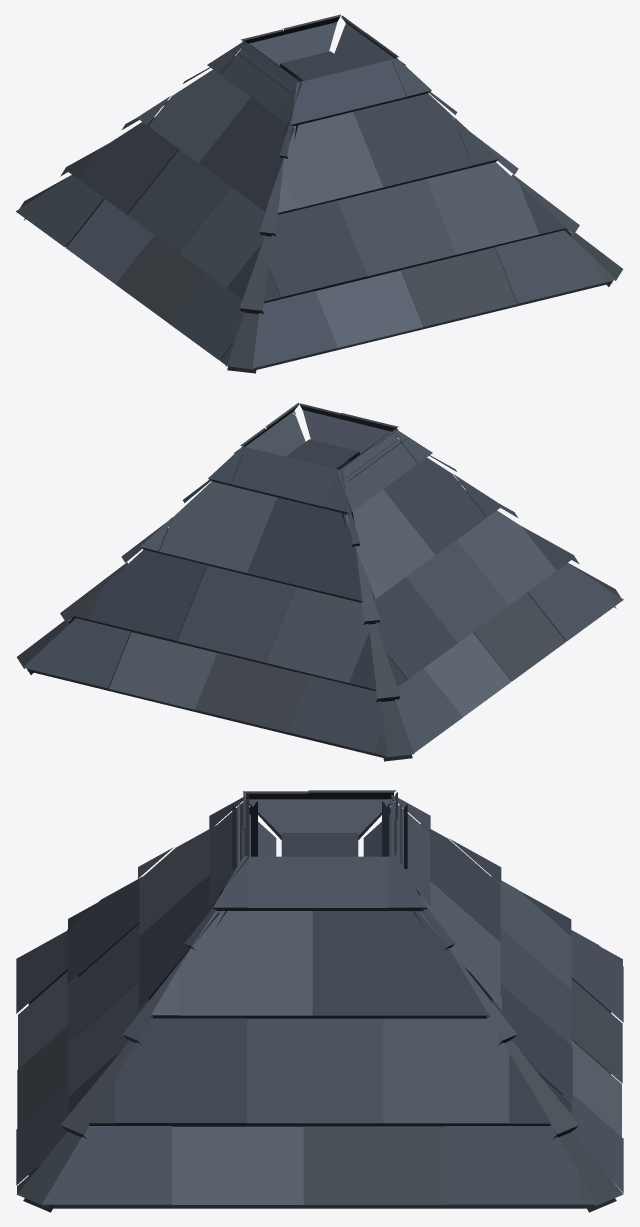
File: roof-point-slate.glb
3 views of the same model, one above another, from view 1: azimuth 30°, elevation 25°; view 2: azimuth 150°, elevation 25°; view 3: azimuth 270°, elevation 25° (orthographic). The views are drawn at different scales.
Parts seen in each view (by area): view 1: roof-point-slate; view 2: roof-point-slate; view 3: roof-point-slate.
Boxes of the visible parts, x1,y1,x2,y2 form: roof-point-slate: (16, 14, 623, 373); roof-point-slate: (17, 402, 623, 761); roof-point-slate: (16, 790, 623, 1212).
Bounding box in the file's own units: 1.1 × 0.5244 × 1.1.
